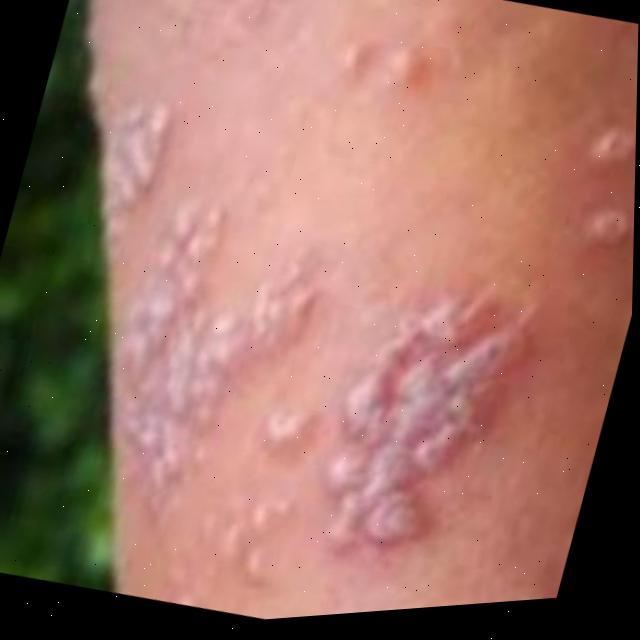Shingles: (0, 43, 612, 640)
